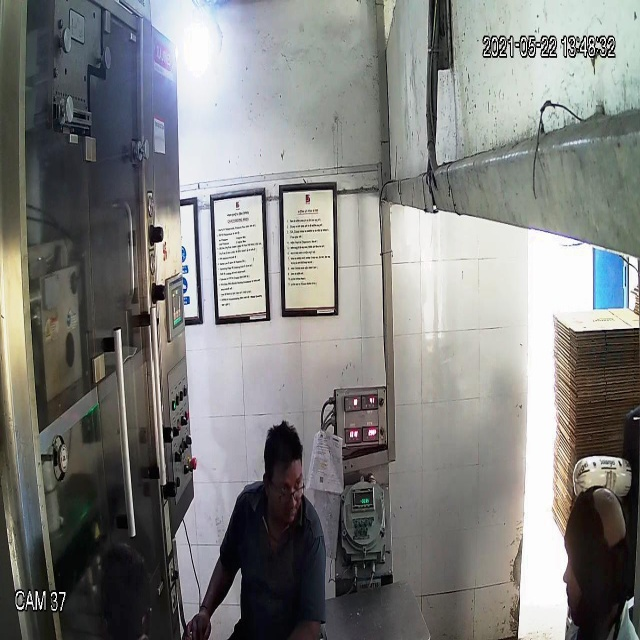Gafas: (261, 469, 308, 506)
